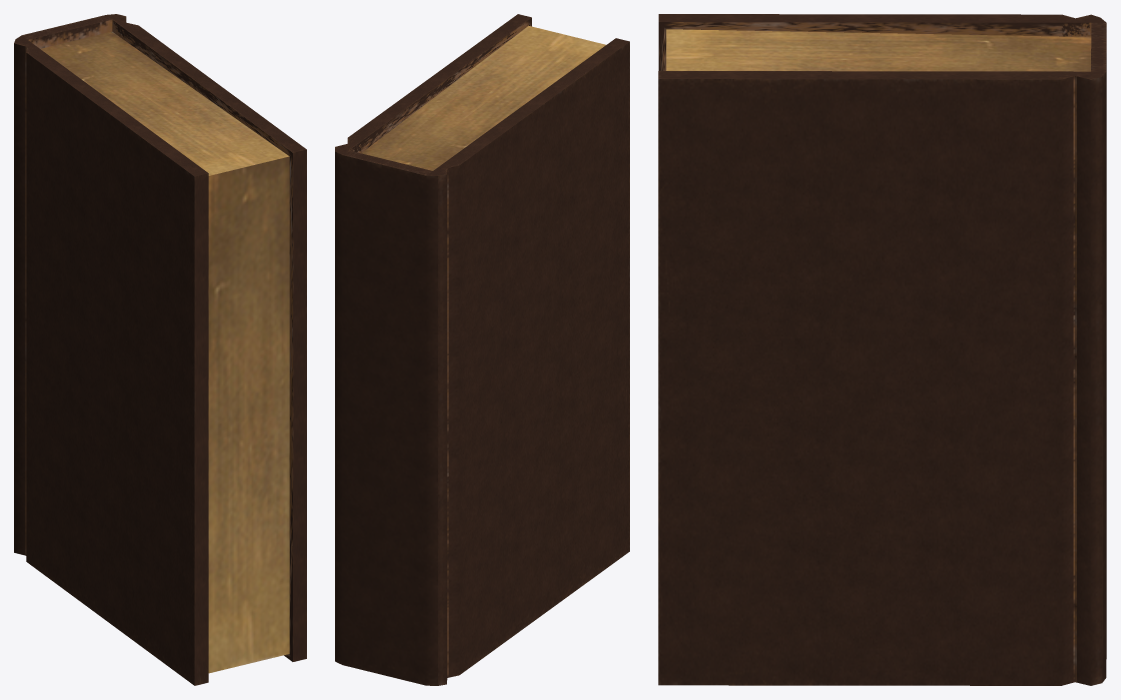
File: BookExport002.obj
The picture shows the model from 3 angles, left to right: view 1: azimuth 30°, elevation 25°; view 2: azimuth 150°, elevation 25°; view 3: azimuth 270°, elevation 25°; orthographic projection. The views are drawn at different scales.
Parts seen in each view (by area): view 1: BookExport:RoadKillOut; view 2: BookExport:RoadKillOut; view 3: BookExport:RoadKillOut.
Boxes of the visible parts, bbox=[...] form: BookExport:RoadKillOut: bbox=[14, 14, 306, 685]; BookExport:RoadKillOut: bbox=[335, 14, 629, 685]; BookExport:RoadKillOut: bbox=[658, 14, 1106, 685].
Size of the model in its own units: 5.22 by 22.48 by 15.07.
Materials: 1 (1 with a texture image).
